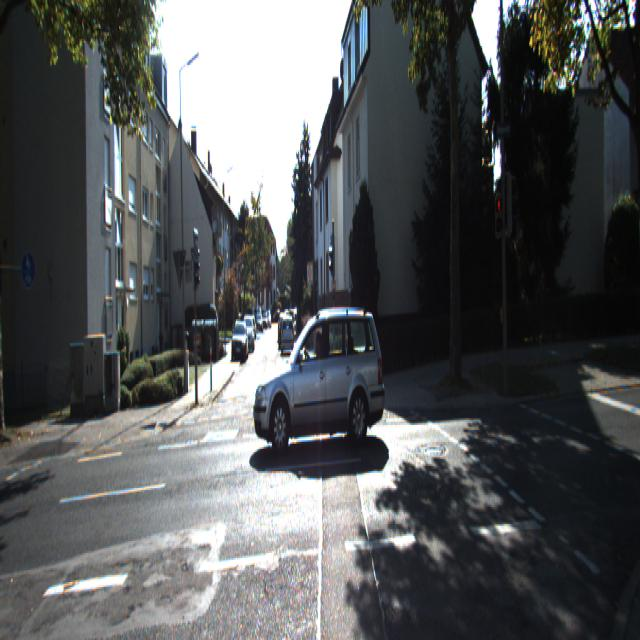Car: (252, 301, 386, 453), (231, 322, 249, 362), (280, 315, 294, 356)
